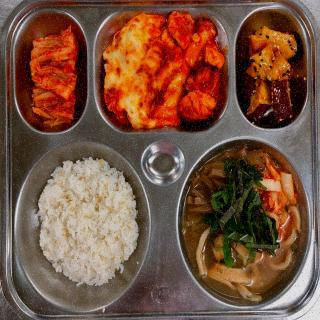Nasi: (36, 157, 138, 288)
